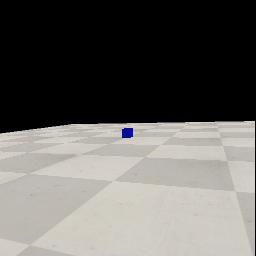box: (122, 128, 133, 138)
